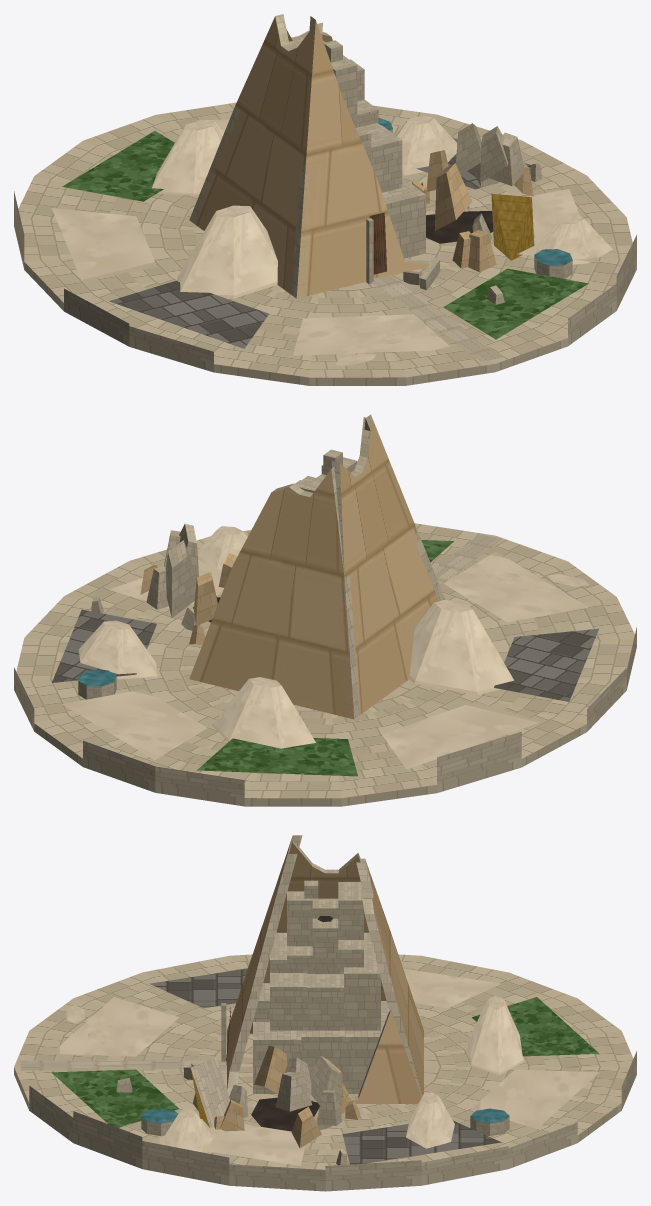
The model's file is pyramid_small_destroyed_lod1.glb.
The picture shows the model from 3 angles, top to bottom: view 1: azimuth 30°, elevation 25°; view 2: azimuth 150°, elevation 25°; view 3: azimuth 270°, elevation 25°; orthographic projection. The views are drawn at different scales.
Parts seen in each view (by area): view 1: pyramid_small_destroyed_lod1; view 2: pyramid_small_destroyed_lod1; view 3: pyramid_small_destroyed_lod1.
Part boxes in pixels (<box>): pyramid_small_destroyed_lod1: <box>14,14,636,385</box>; pyramid_small_destroyed_lod1: <box>14,414,636,806</box>; pyramid_small_destroyed_lod1: <box>14,835,636,1191</box>.
Bounding box in the file's own units: 1.7 × 0.7812 × 1.91.
1 material, 1 textured.
